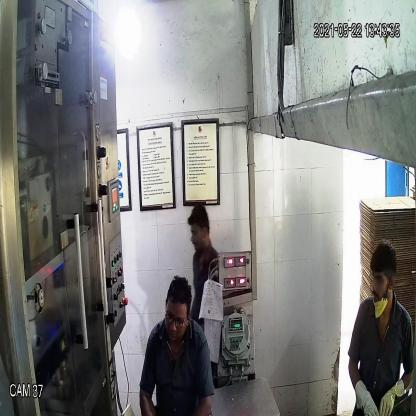goggles: (163, 308, 189, 330)
no_goggles: (368, 269, 395, 288)
